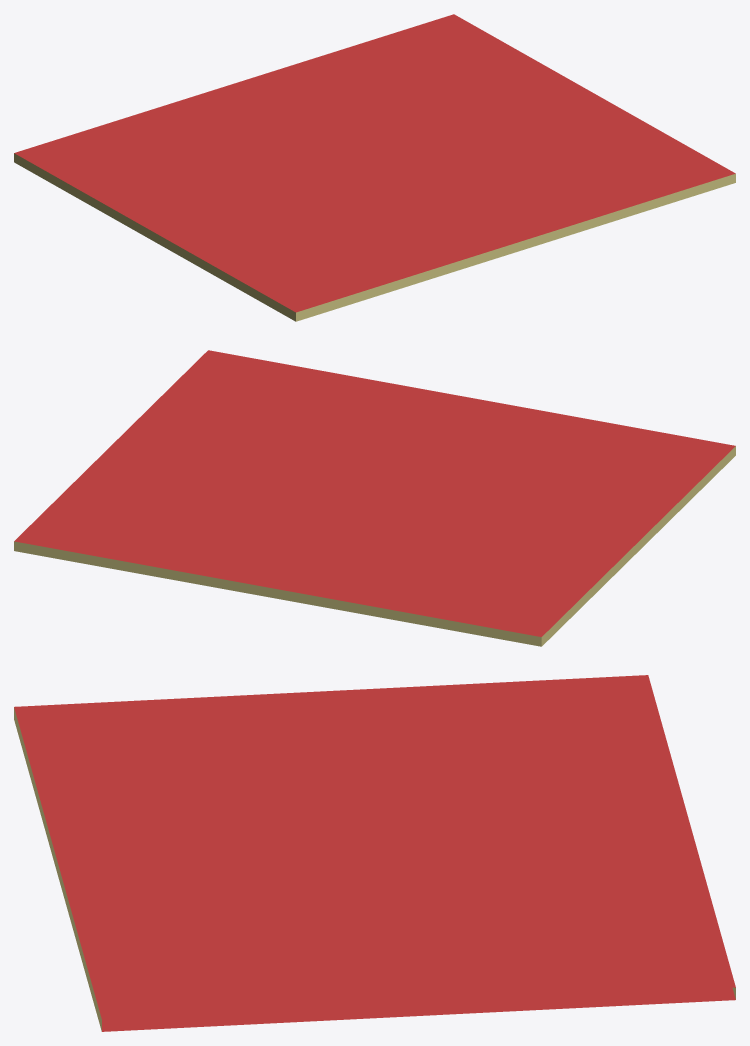
3 views of the same model, one above another, from view 1: azimuth 30°, elevation 25°; view 2: azimuth 150°, elevation 25°; view 3: azimuth 270°, elevation 25° (orthographic). The views are drawn at different scales.
Size of the model in its own units: 5.9 by 5.23 by 0.1.
